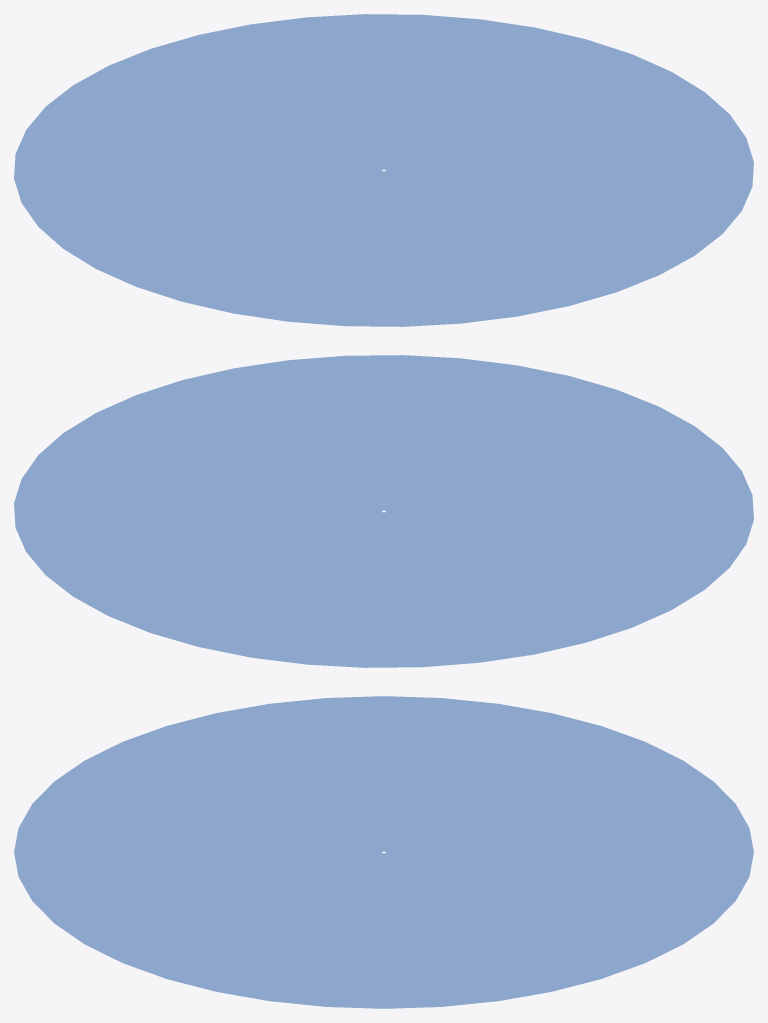
The picture shows the model from 3 angles, top to bottom: view 1: azimuth 30°, elevation 25°; view 2: azimuth 150°, elevation 25°; view 3: azimuth 270°, elevation 25°; orthographic projection.
Visible parts, largest first — view 1: FX_MESH_Circle_5; view 2: FX_MESH_Circle_5; view 3: FX_MESH_Circle_5.
Part boxes in pixels (x1,y1,x2,y2): FX_MESH_Circle_5: (14, 14, 753, 326); FX_MESH_Circle_5: (14, 355, 753, 667); FX_MESH_Circle_5: (14, 696, 753, 1008).
Size of the model in its own units: 3.55 by 1.37e-06 by 3.55.
